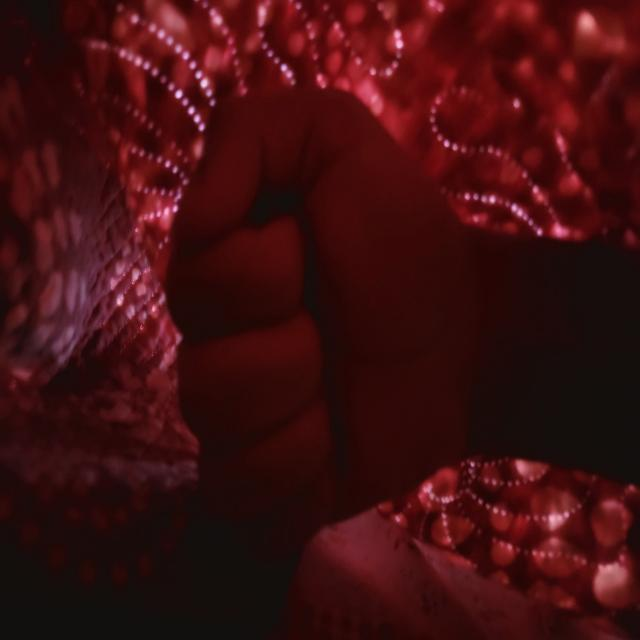Closed Hand: (164, 84, 486, 552)
